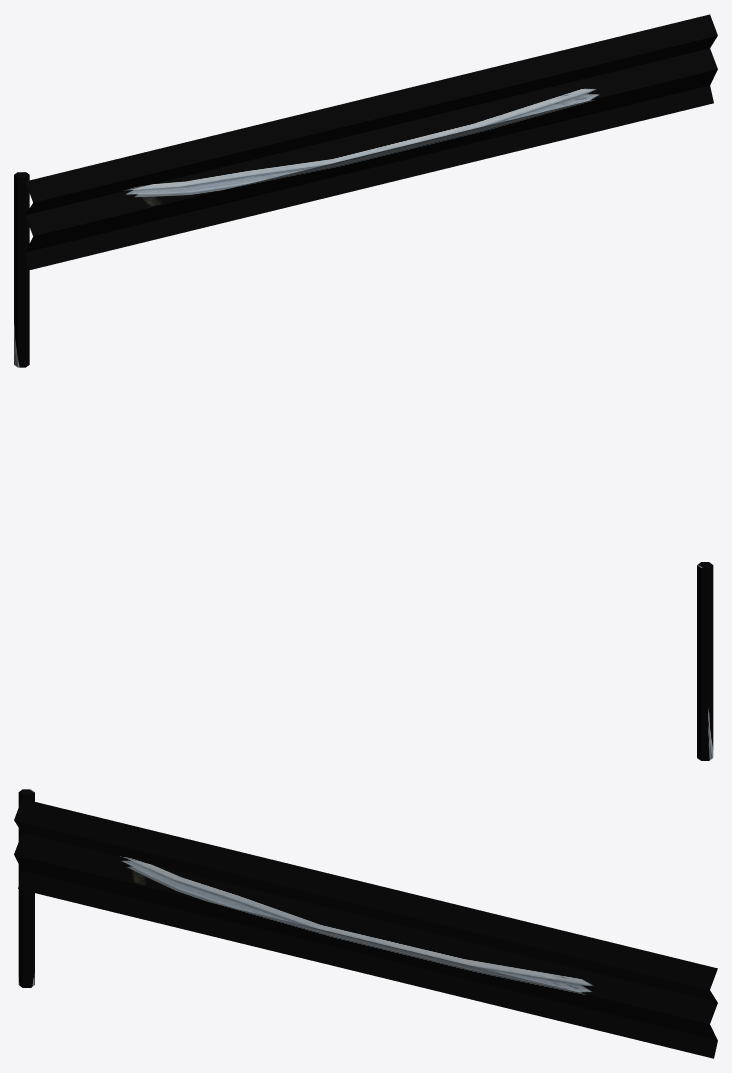
Rendered from road_barrier.glb.
3 renders of one model, top to bottom at view 1: azimuth 30°, elevation 25°; view 2: azimuth 150°, elevation 25°; view 3: azimuth 330°, elevation 25°, orthographic.
Parts seen in each view (by area): view 1: railguard, pole; view 2: pole; view 3: railguard, pole.
Part boxes in pixels (x1,y1,x2,y2): railguard: (25, 14, 717, 270); pole: (14, 172, 29, 367); pole: (697, 562, 713, 760); railguard: (14, 798, 717, 1058); pole: (18, 789, 34, 987).
Size of the model in its own units: 2.02 by 0.53 by 0.0805.
Materials: 2 (2 with a texture image).
